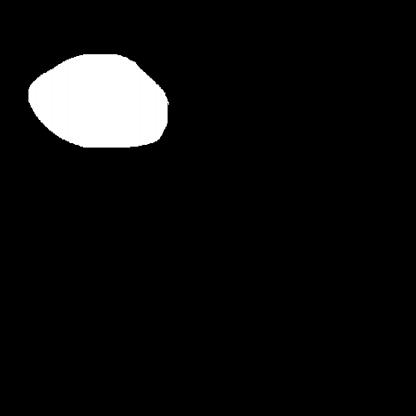benign: (18, 43, 178, 162)
